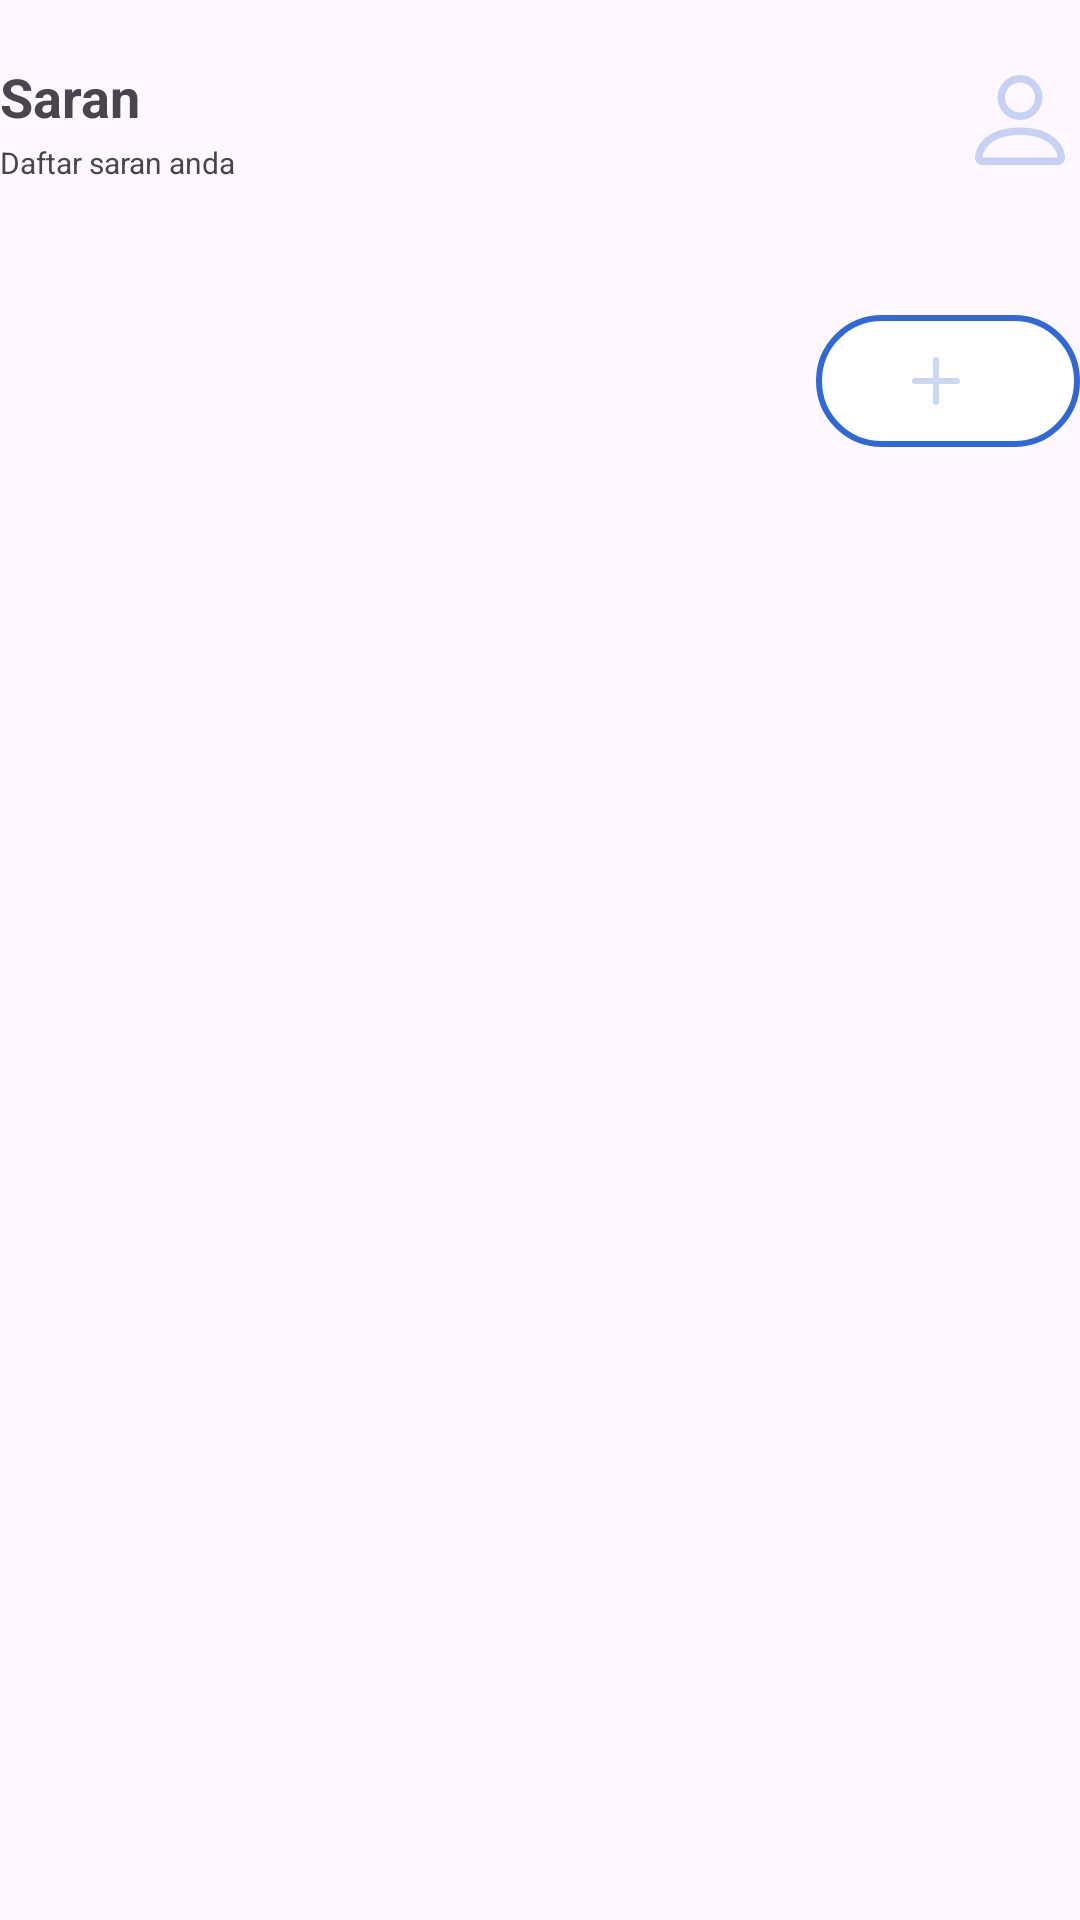

Screen size 1080 x 1920. Icon name, then its center in pixels as [x,y]:
person: [1020,120]
tambah: [948,381]
